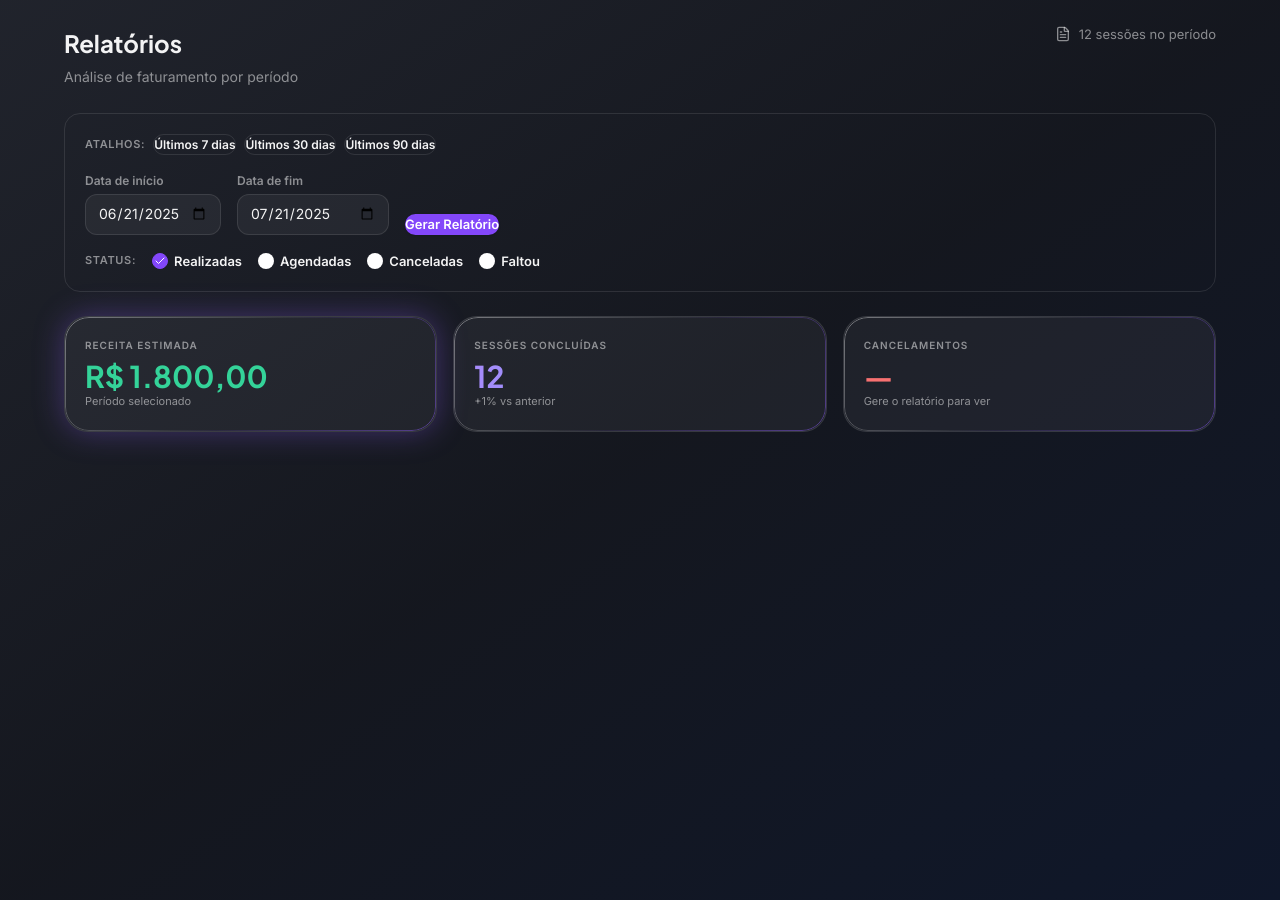
Test: ReportsPage › expande linha do cliente para mostrar sessões individuais
This screenshot has width=1280, height=900.
Step 1. Click the button "Gerar Relatório" → (452, 224), box top-left (405, 214), bottom-right (499, 235)
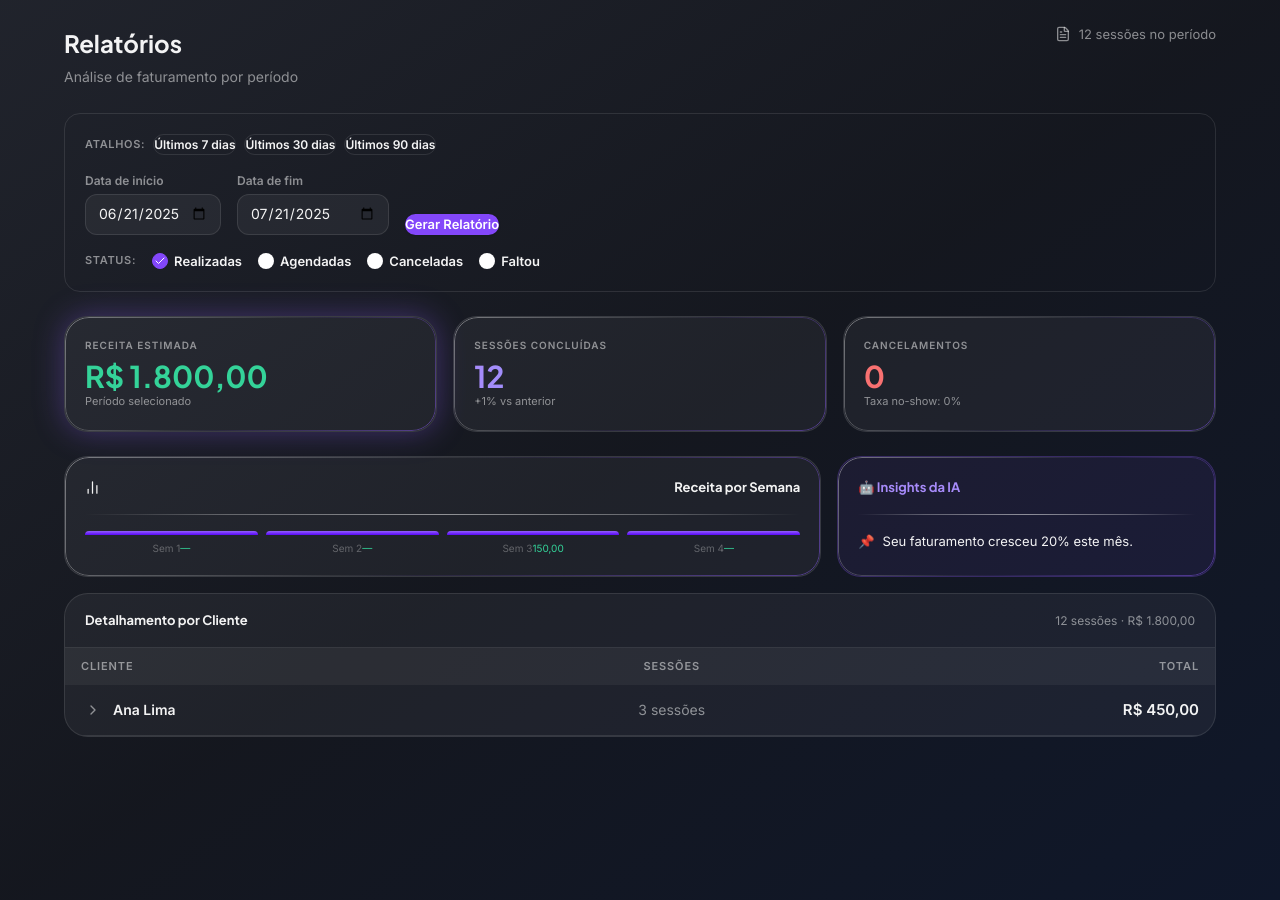
Check: the text "50 min" is not shown
Check: the text "Ana Lima" is shown, box top-left (113, 699), bottom-right (176, 721)
Step 2. Click the button named "expandir sessões de ana lima" → (93, 710), box top-left (81, 698), bottom-right (105, 722)
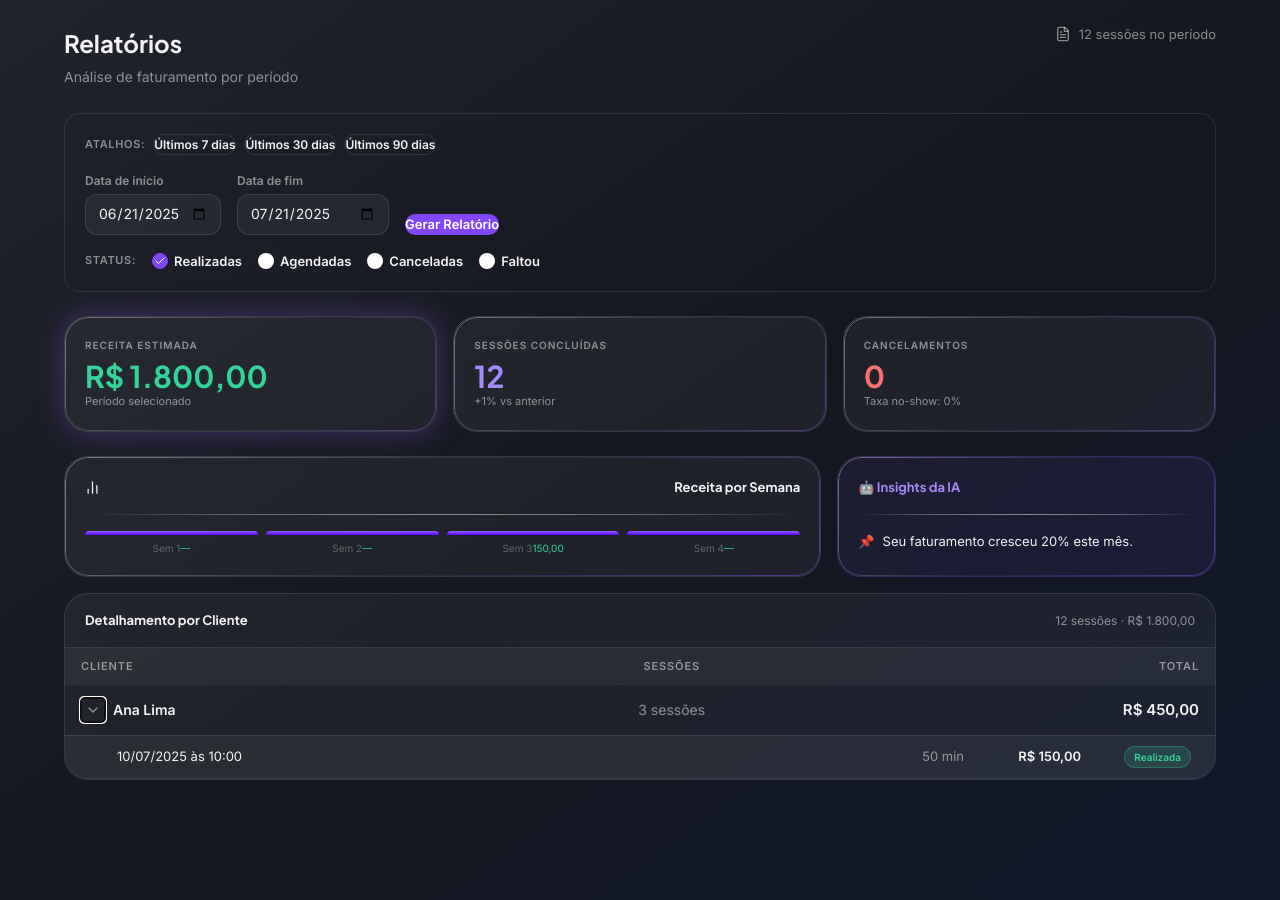
Check: the text "50 min" is shown, box top-left (922, 748), bottom-right (964, 764)
Check: the text "R$ 150,00" is shown, box top-left (1018, 748), bottom-right (1081, 764)
